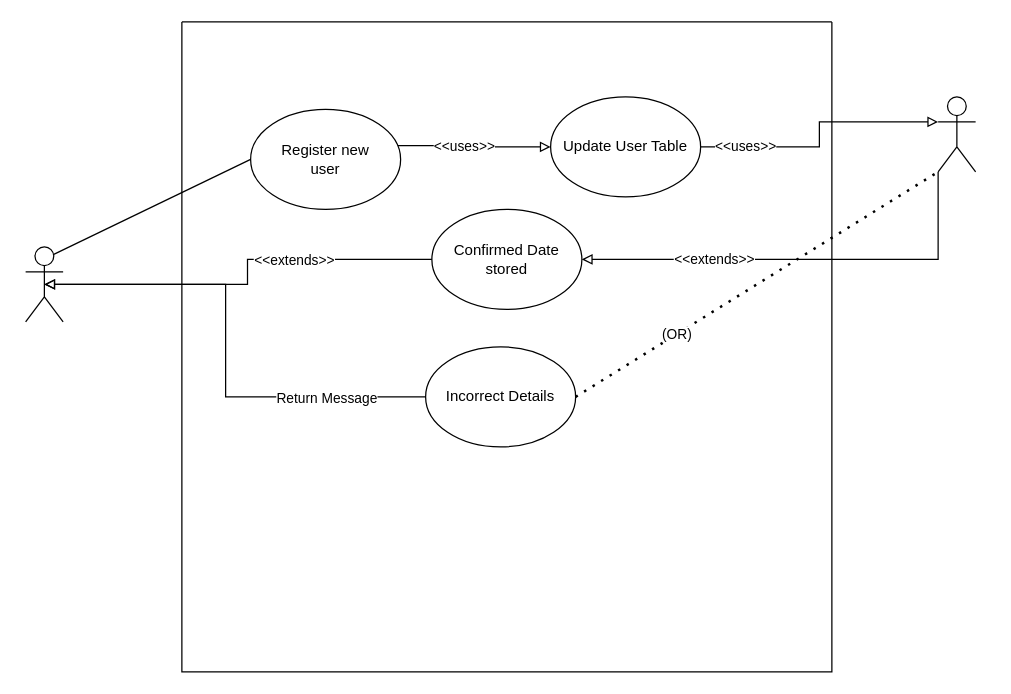
Image size: 1011x694. Some labels were removed from this diagram. Here are the shapes that lost their labels. From the top down, the box of each, then its label:
(937, 96, 976, 172): DataBase
(24, 246, 63, 322): Patient
